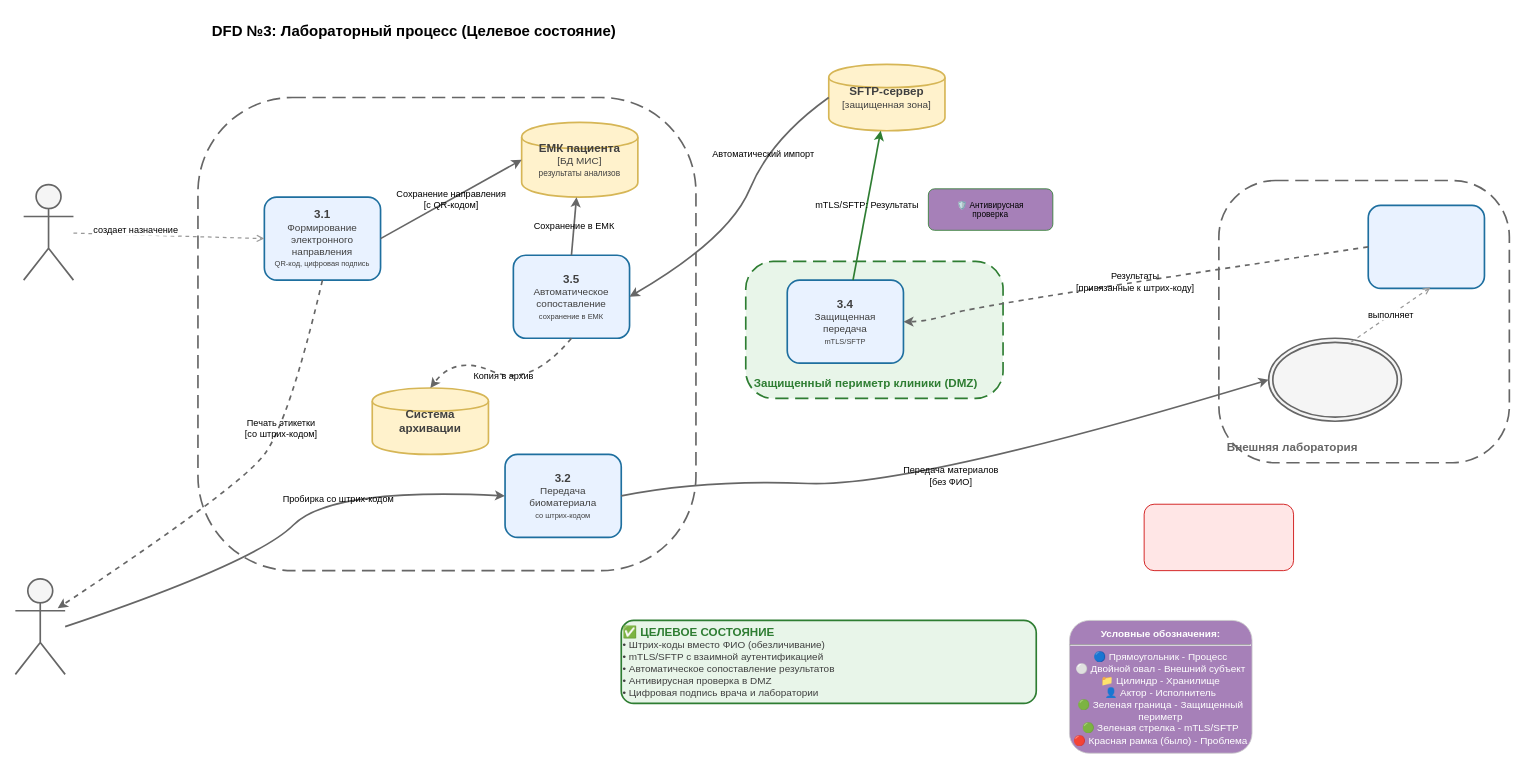
The diagram is 1524 pixels wide and 768 high, and some of its shapes have lost their labels. The box of each missing label's shape, as (x1, y1, x2, y2) in pixels:
3.3 Генерация результатов привязка к штрих-коду: (1367, 204, 1485, 289)
Врач [Инициатор] цифровая подпись: (22, 183, 74, 281)
Медицинская информационная система (МИС): (197, 96, 696, 571)
Медицинская лаборатория [Внешний субъект]: (1267, 337, 1402, 422)
Пациент [Участник]: (14, 578, 66, 675)
⚠ БЫЛО: Неконтролируемый доступ Ручное копирование Риск ошибок: (1143, 503, 1294, 571)
